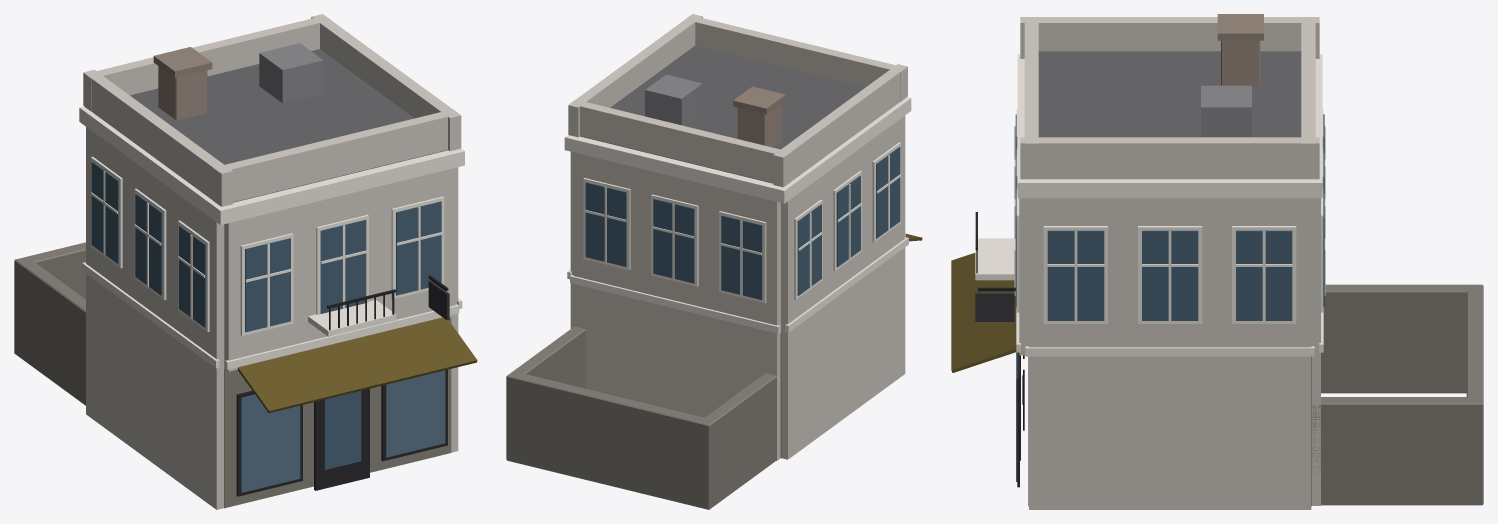
The model's file is jail_4.glb.
3 views of the same model, side by side, from view 1: azimuth 30°, elevation 25°; view 2: azimuth 150°, elevation 25°; view 3: azimuth 270°, elevation 25° (orthographic). The views are drawn at different scales.
Visible parts, largest first — view 1: jail4_plaster, jail4_glass, jail4_stone, jail4_wood, jail4_cloth, jail4_iron, jail4_brick; view 2: jail4_plaster, jail4_stone, jail4_glass, jail4_wood, jail4_brick, jail4_iron; view 3: jail4_plaster, jail4_stone, jail4_glass, jail4_wood, jail4_cloth, jail4_iron, jail4_brick.
Part boxes in pixels (x1=…): jail4_plaster: x1=83, y1=14, x2=461, y2=509; jail4_glass: x1=91, y1=162, x2=445, y2=492; jail4_stone: x1=14, y1=106, x2=464, y2=508; jail4_wood: x1=91, y1=156, x2=449, y2=496; jail4_cloth: x1=237, y1=317, x2=477, y2=412; jail4_iron: x1=259, y1=43, x2=448, y2=330; jail4_brick: x1=153, y1=47, x2=212, y2=119; jail4_plaster: x1=568, y1=14, x2=907, y2=460; jail4_stone: x1=506, y1=97, x2=911, y2=509; jail4_glass: x1=585, y1=147, x2=900, y2=299; jail4_wood: x1=583, y1=142, x2=900, y2=303; jail4_brick: x1=733, y1=86, x2=785, y2=147; jail4_iron: x1=645, y1=74, x2=702, y2=125; jail4_plaster: x1=1019, y1=17, x2=1320, y2=509; jail4_stone: x1=975, y1=54, x2=1483, y2=506; jail4_glass: x1=1015, y1=114, x2=1324, y2=481; jail4_wood: x1=975, y1=109, x2=1325, y2=487; jail4_cloth: x1=951, y1=253, x2=1016, y2=372; jail4_iron: x1=975, y1=85, x2=1251, y2=430; jail4_brick: x1=1217, y1=14, x2=1263, y2=86.
Size of the model in its own units: 5.51 by 7.67 by 9.42.
